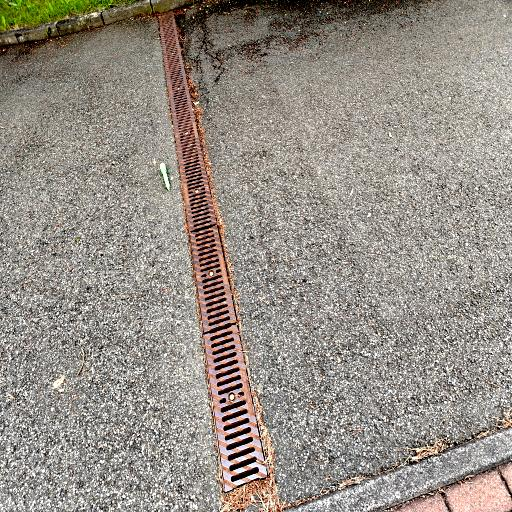Probe-Detection: (160, 163, 170, 190)
